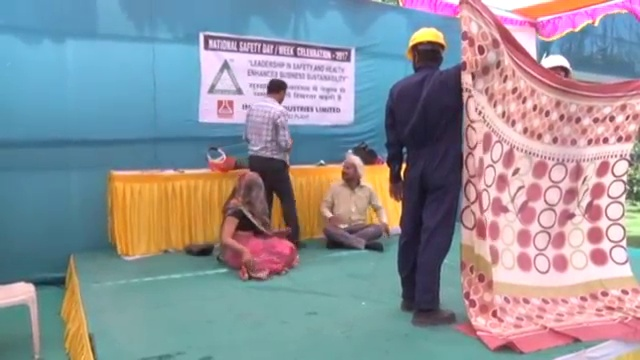helmet: (407, 25, 448, 56), (537, 52, 572, 75)
helmet_off: (235, 171, 265, 203), (339, 152, 362, 185), (265, 80, 286, 105)
helmet_on: (405, 25, 449, 73)
person: (385, 24, 465, 324), (248, 79, 306, 244), (218, 170, 297, 280), (319, 151, 388, 256)
